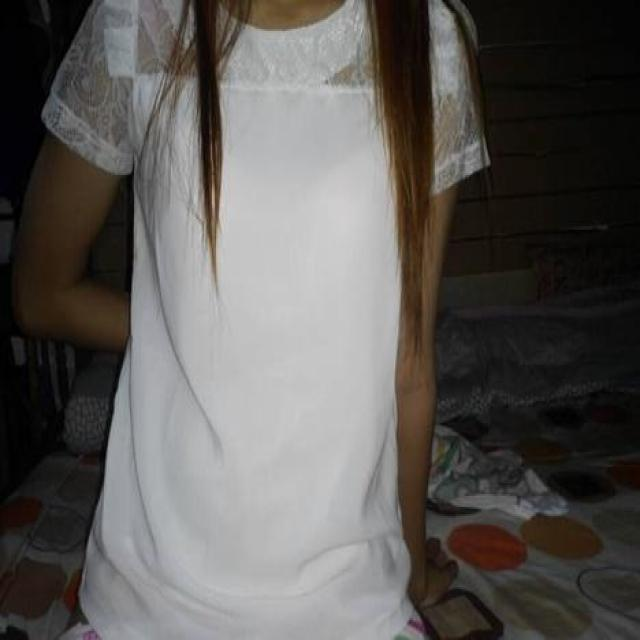short sleeve top: (41, 2, 488, 636)
